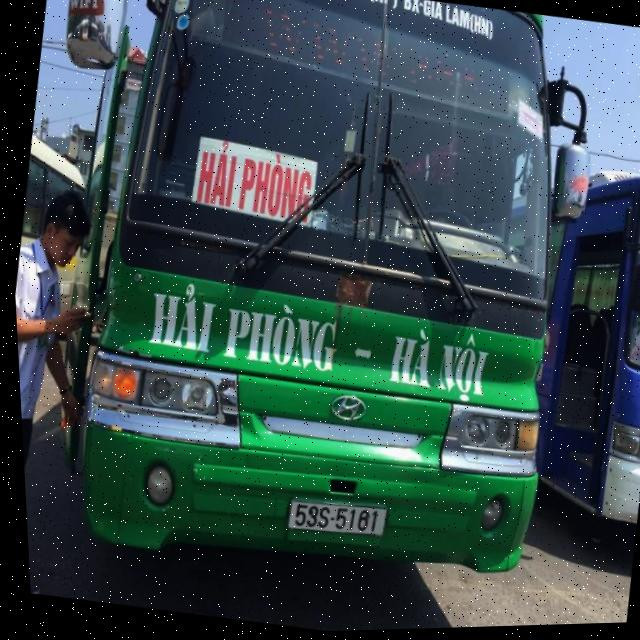car: (1, 0, 632, 629), (479, 149, 640, 580)
plate: (280, 488, 396, 549)
